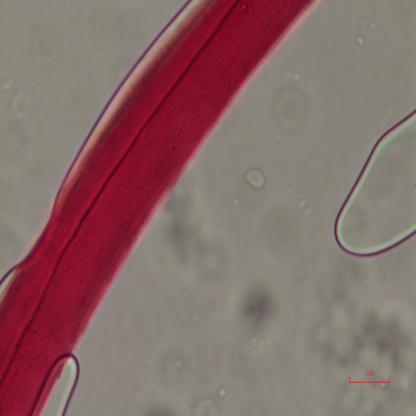Air bubble: (331, 102, 416, 259), (45, 352, 81, 416)
Background material: (317, 266, 416, 416), (165, 198, 235, 304), (224, 262, 289, 358), (148, 350, 222, 416), (272, 82, 312, 136), (27, 18, 62, 69), (6, 85, 36, 122), (241, 163, 269, 190), (354, 34, 367, 48)
Microfibre: (0, 0, 318, 414)
